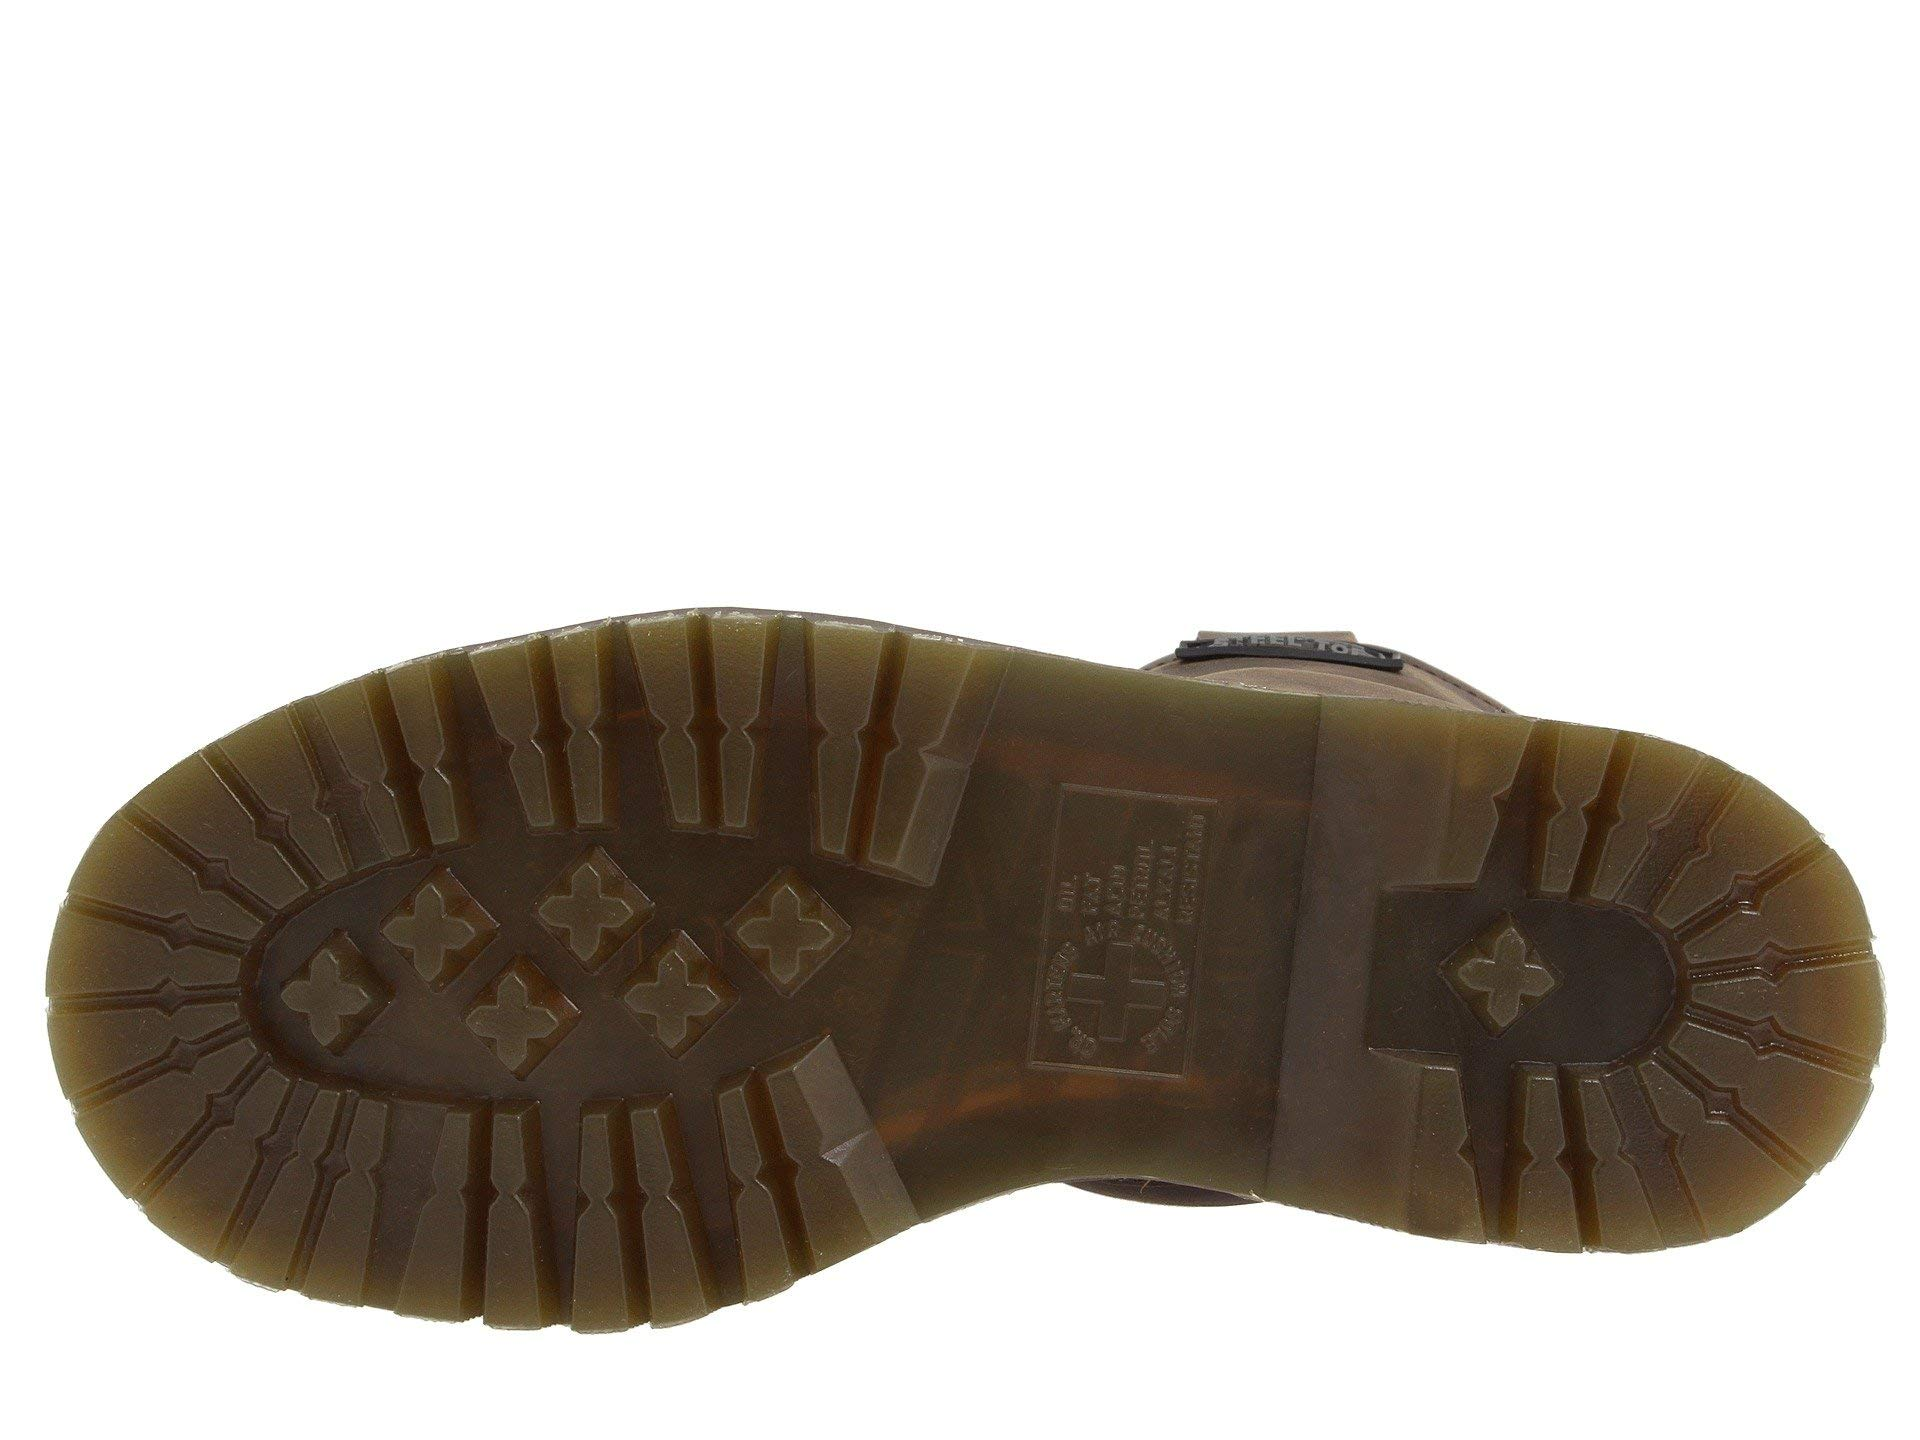bowtie: (1636, 871, 1893, 1195), (1609, 712, 1866, 970), (803, 610, 992, 905), (609, 601, 791, 861), (44, 894, 266, 1101), (546, 1094, 720, 1333), (1504, 1063, 1714, 1252), (460, 635, 630, 843)
exclude: (983, 649, 1454, 1248)
quad: (1002, 777, 1274, 1104)
star: (301, 877, 881, 1060), (1002, 777, 1274, 1104), (364, 852, 502, 1016), (1448, 892, 1584, 1054), (711, 871, 854, 1019), (516, 849, 652, 976), (271, 923, 384, 1074)
text: (1002, 777, 1274, 1104)
